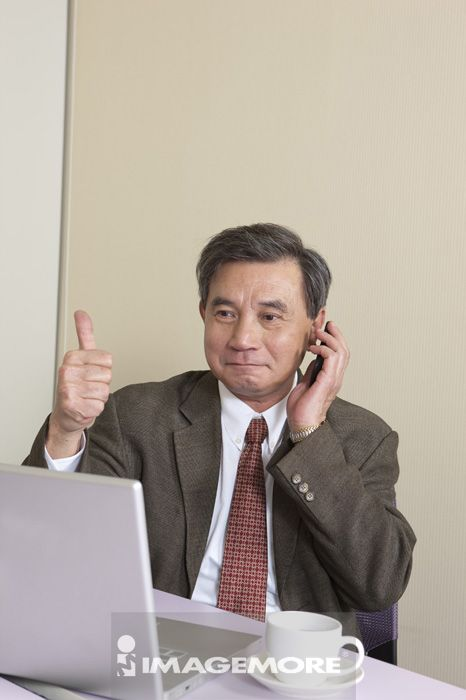talk: (203, 294, 346, 438)
